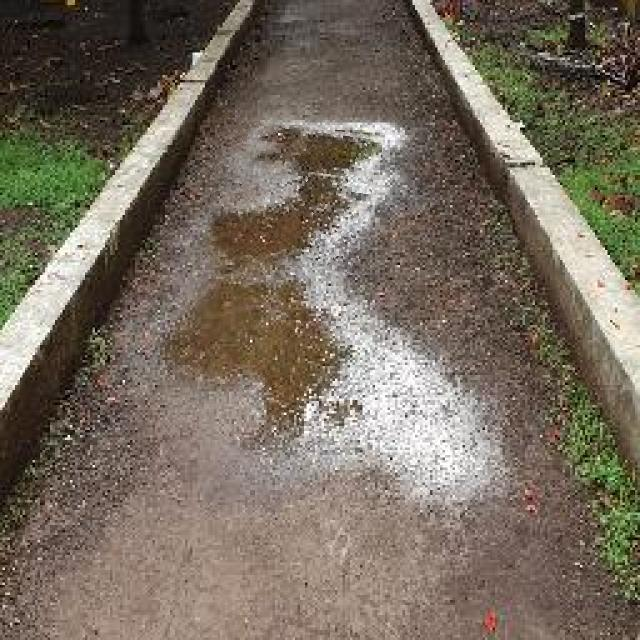puddle: (208, 122, 380, 272), (198, 275, 347, 442)
